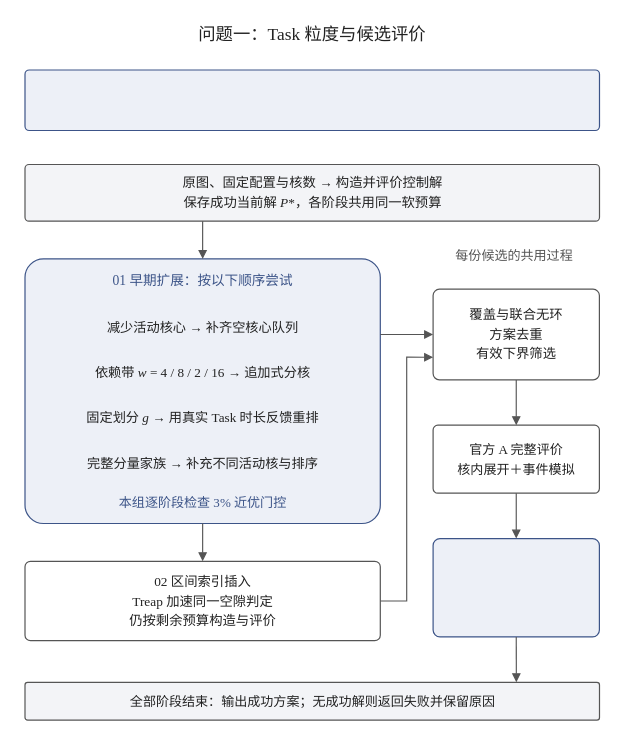
This 624x738 diagram has some shape labels left out. Each missing label, with the centre of its shape:
成功且字典序更优 才替换 P * 否则保留当前解: point (516, 587)
每子图一个 Task；跨 Task 数据经 DDR 中转 同核前一 Task 后等 100 cycles；跨核前驱后等 1000 cycles: point (312, 100)
